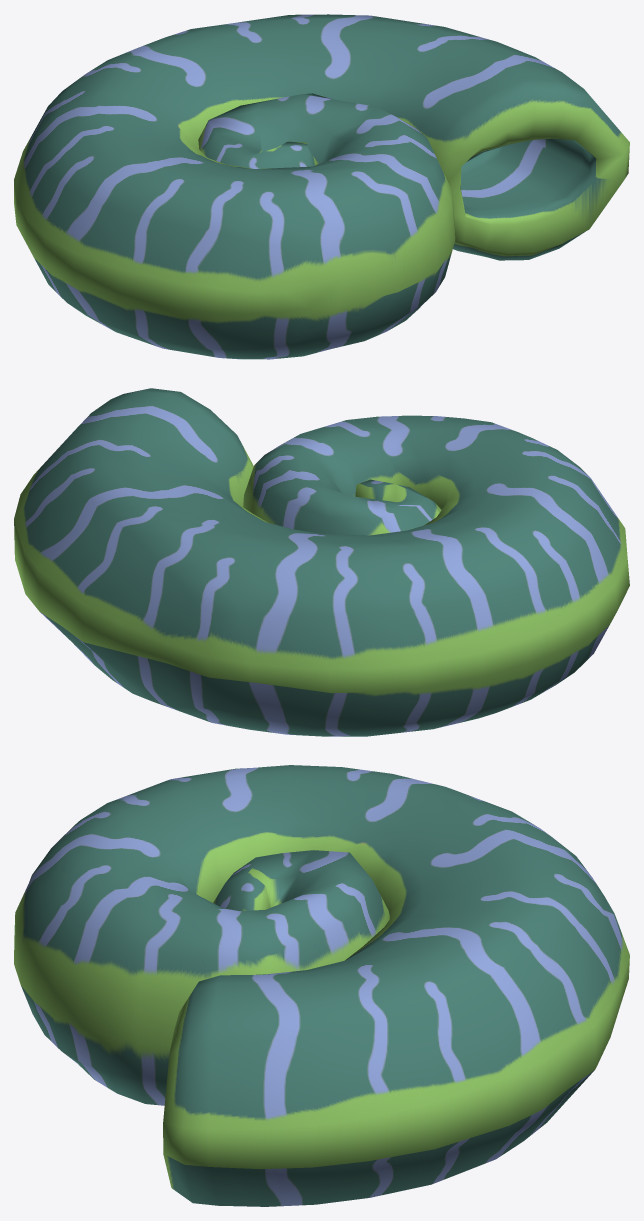
The model's file is Curvy_Shell_2.fbx.
3 renders of one model, top to bottom at view 1: azimuth 30°, elevation 25°; view 2: azimuth 150°, elevation 25°; view 3: azimuth 270°, elevation 25°, orthographic. The views are drawn at different scales.
Visible parts, largest first — view 1: Curvy_Shell; view 2: Curvy_Shell; view 3: Curvy_Shell.
Part boxes in pixels (left/top/right/bottom): Curvy_Shell: left=14, top=14, right=629, bottom=359; Curvy_Shell: left=14, top=388, right=629, bottom=736; Curvy_Shell: left=14, top=765, right=629, bottom=1206.
Size of the model in its own units: 32.99 by 10.33 by 27.05.
Materials: 1 (1 with a texture image).
